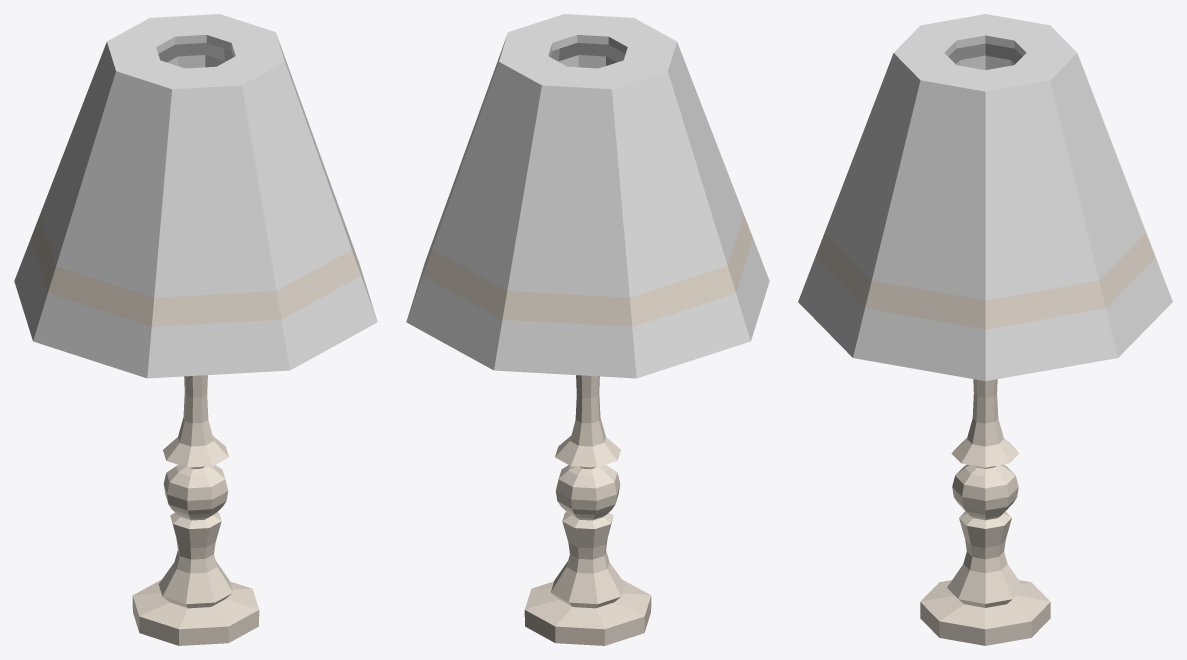
The model's file is lmap.fbx.
3 renders of one model, left to right at view 1: azimuth 30°, elevation 25°; view 2: azimuth 150°, elevation 25°; view 3: azimuth 270°, elevation 25°, orthographic.
Visible parts, largest first — view 1: Cylinder; view 2: Cylinder; view 3: Cylinder.
Boxes of the visible parts, x1,y1,x2,y2 form: Cylinder: [14, 14, 377, 645]; Cylinder: [406, 14, 769, 645]; Cylinder: [798, 14, 1172, 645].
Bounding box in the file's own units: 1.86 × 3.1 × 1.86.
